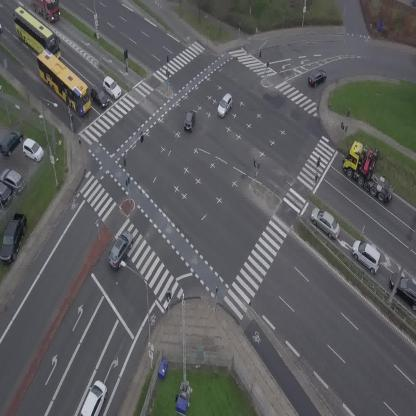bicycle: (68, 113, 75, 129)
bus: (29, 47, 100, 118), (3, 4, 70, 65)
car: (346, 236, 388, 276), (103, 228, 139, 271), (305, 204, 345, 241), (79, 378, 111, 416), (86, 84, 114, 111), (99, 75, 125, 100), (213, 92, 237, 119), (305, 67, 329, 89), (182, 108, 197, 132)
lorry: (335, 134, 399, 214), (31, 0, 60, 23), (0, 23, 2, 32)
